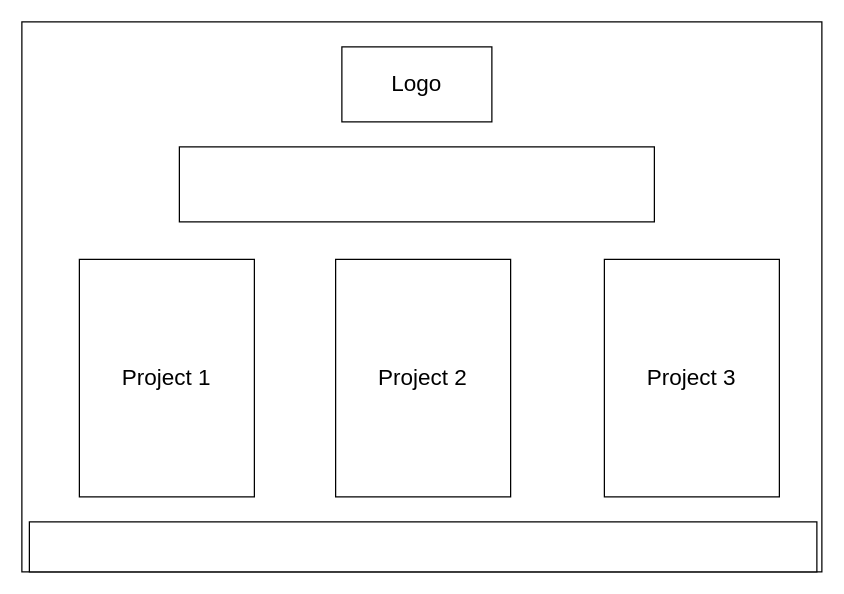
Some shapes in this 844 by 594 pixel diagram are drawn without their labels. Each missing label, with the centre of its shape:
Footer with my social media on: point 422,546
Navigation Bar Home Projects Contact: point 416,184
